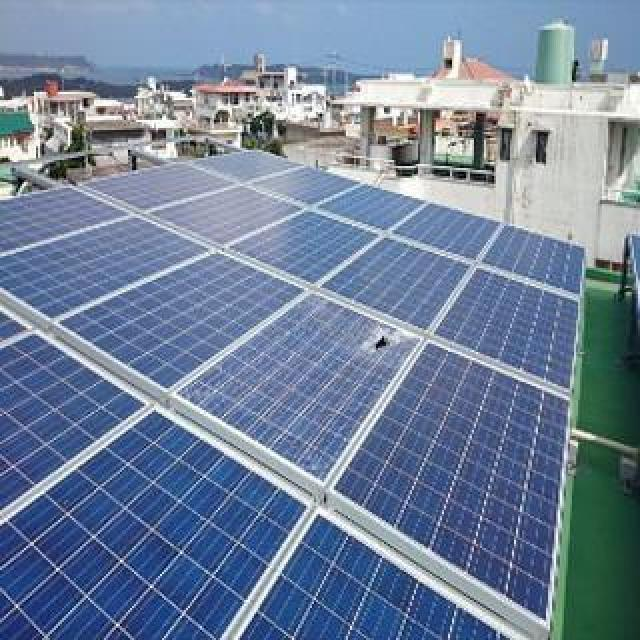cracked: (188, 290, 424, 474)
